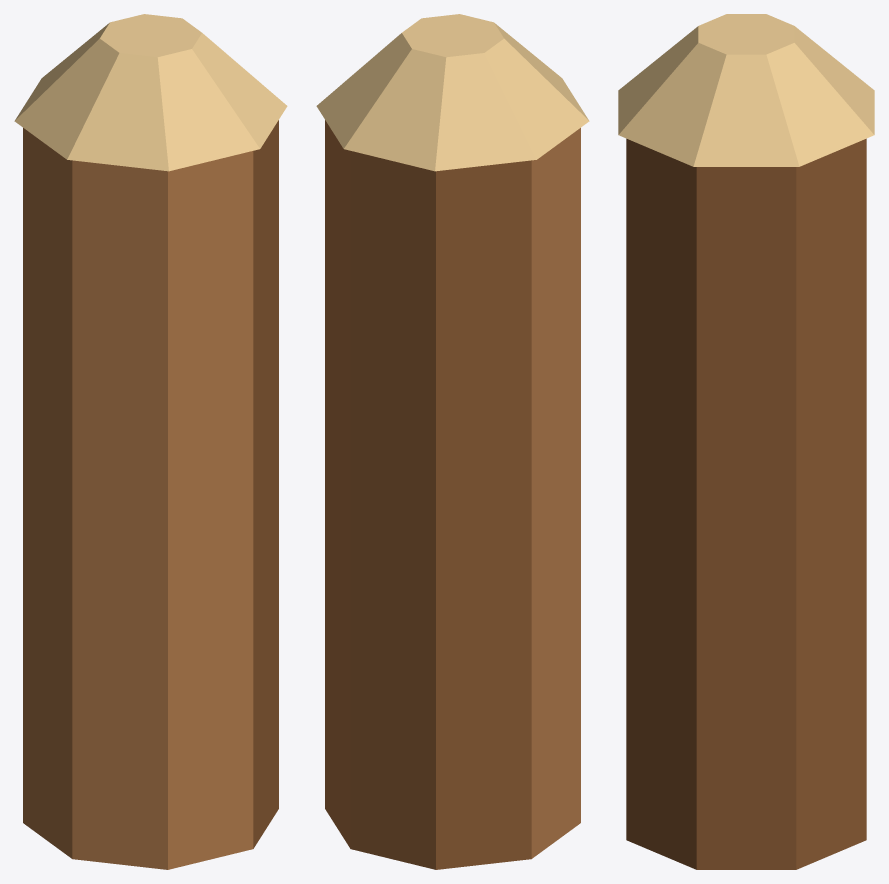
File: bridge_post.glb
3 views of the same model, side by side, from view 1: azimuth 30°, elevation 25°; view 2: azimuth 150°, elevation 25°; view 3: azimuth 270°, elevation 25° (orthographic).
Parts seen in each view (by area): view 1: post; view 2: post; view 3: post.
Boxes of the visible parts, x1,y1,x2,y2 form: post: [14, 14, 287, 869]; post: [316, 14, 589, 869]; post: [618, 14, 874, 869].
Bounding box in the file's own units: 0.0148 × 0.05 × 0.0148.
